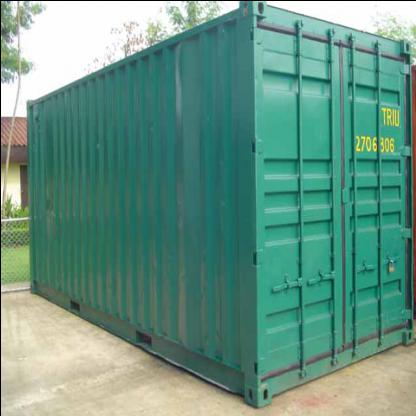Damage: (166, 40, 193, 140), (172, 241, 194, 349), (40, 165, 59, 245), (90, 128, 102, 158), (142, 114, 156, 136)
